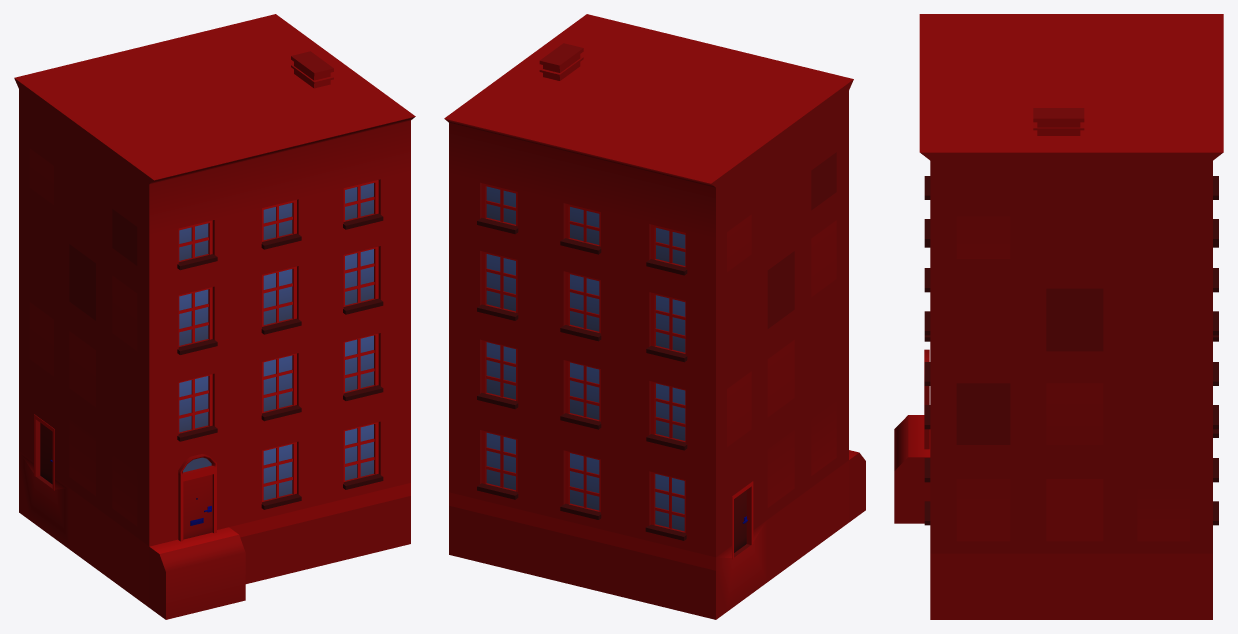
The model's file is buildings-residential-georgianhome_v5.fbx.
The picture shows the model from 3 angles, left to right: view 1: azimuth 30°, elevation 25°; view 2: azimuth 150°, elevation 25°; view 3: azimuth 270°, elevation 25°; orthographic projection. The views are drawn at different scales.
Parts seen in each view (by area): view 1: GeorgianHome_v5_base, GeorgianHome_v5_windowRefl; view 2: GeorgianHome_v5_base, GeorgianHome_v5_windowRefl; view 3: GeorgianHome_v5_base.
Boxes of the visible parts, x1,y1,x2,y2 form: GeorgianHome_v5_base: (14,14,415,619); GeorgianHome_v5_windowRefl: (179,183,373,500); GeorgianHome_v5_base: (444,14,865,619); GeorgianHome_v5_windowRefl: (486,186,685,531); GeorgianHome_v5_base: (894,14,1223,619).
Size of the model in its own units: 10.81 by 17.64 by 10.83.
